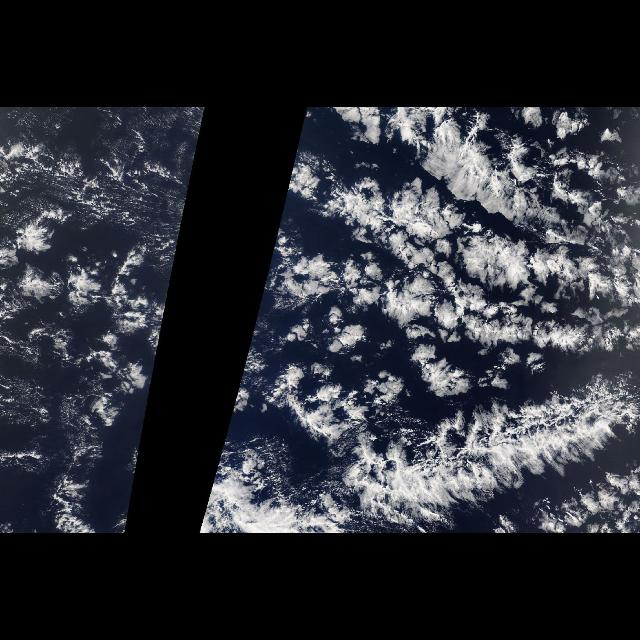Fish: (220, 107, 640, 533)
Flower: (323, 109, 639, 397)
Sugar: (0, 110, 180, 238)
